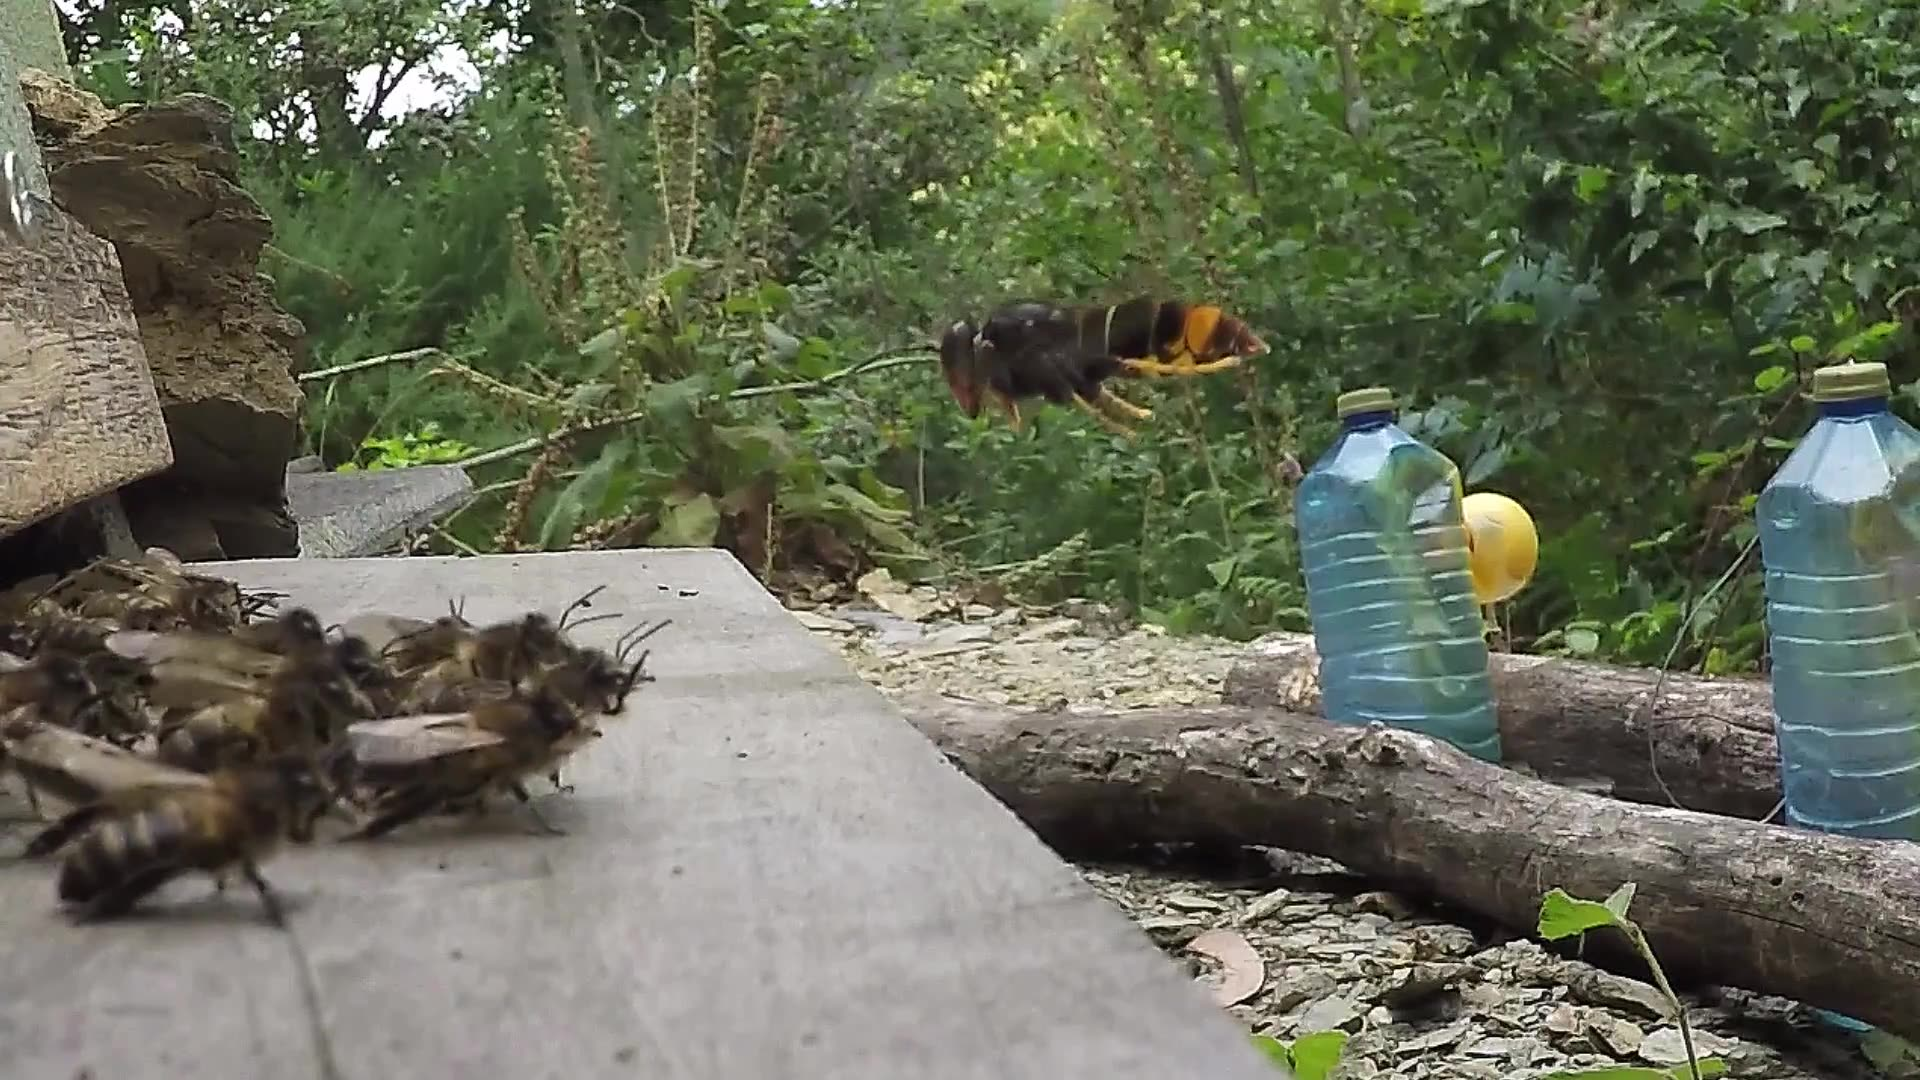bee: (1, 539, 349, 945), (343, 597, 653, 847)
hornet: (920, 282, 1279, 435)
